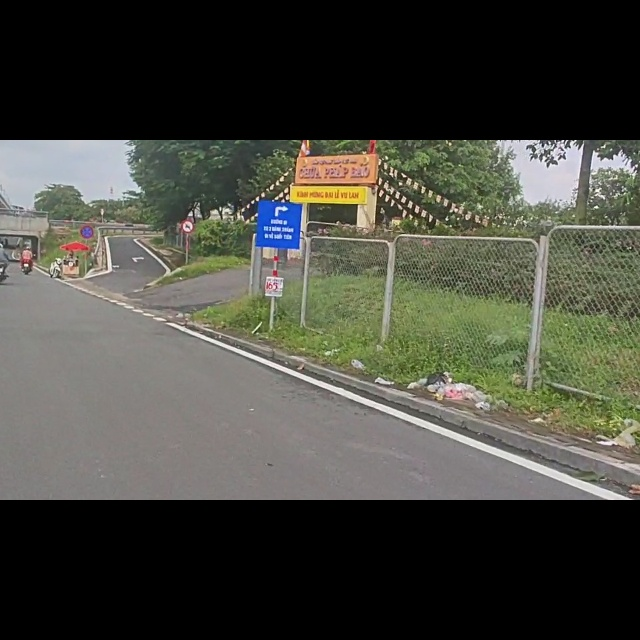bien_chi_dan: (180, 140, 196, 166), (80, 151, 95, 175)
